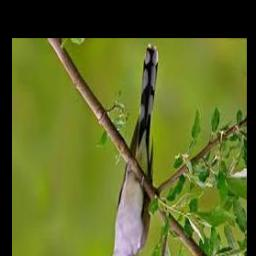Cuckoo: (98, 44, 160, 256)
